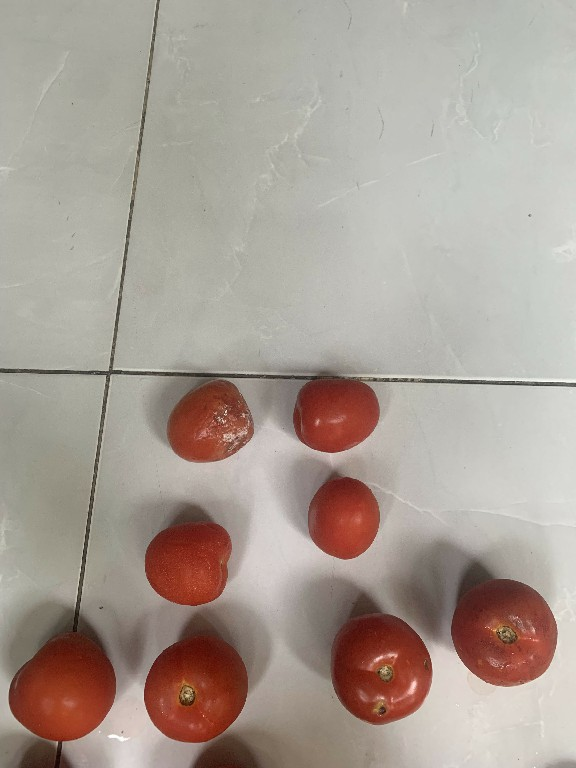NG: (328, 604, 435, 730), (447, 573, 561, 691), (161, 372, 256, 468)
OK: (3, 625, 118, 747), (135, 629, 254, 746), (136, 515, 233, 609), (300, 472, 387, 564), (285, 374, 381, 456)
